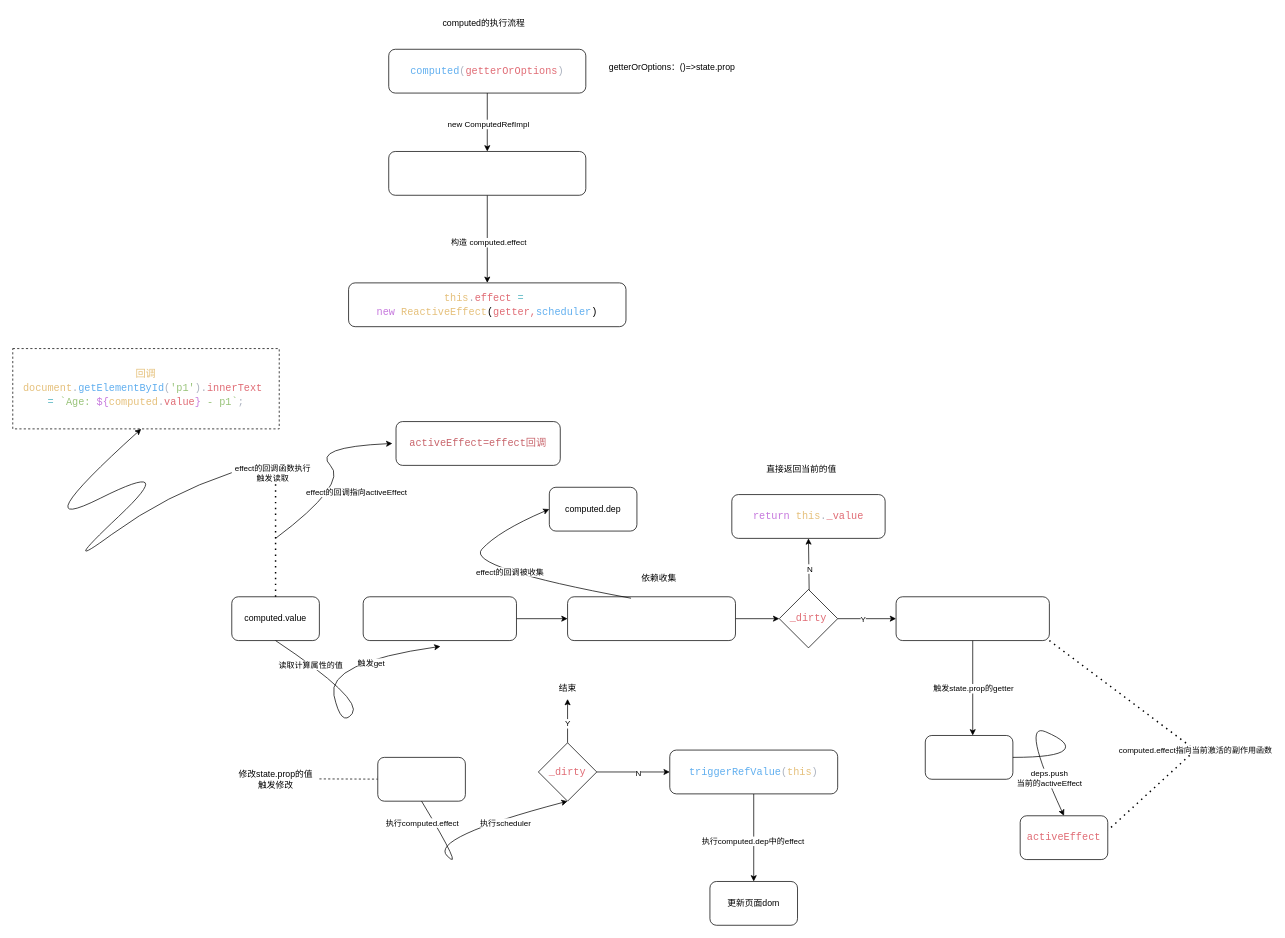
This 1285x938 diagram has some shape labels left out. Here are the shapes that lost their labels. From the top down, the centre of each, then its label:
At pixel 487 173: "new ComputedRefImpl ( getter )".
At pixel 439 618: "get value ()".
At pixel 651 618: "trackRefValue ( this )".
At pixel 972 618: "this . effect . run ()".
At pixel 969 757: "track 触发state的依赖收集".
At pixel 421 779: "trigger 触发state的依赖触发".
